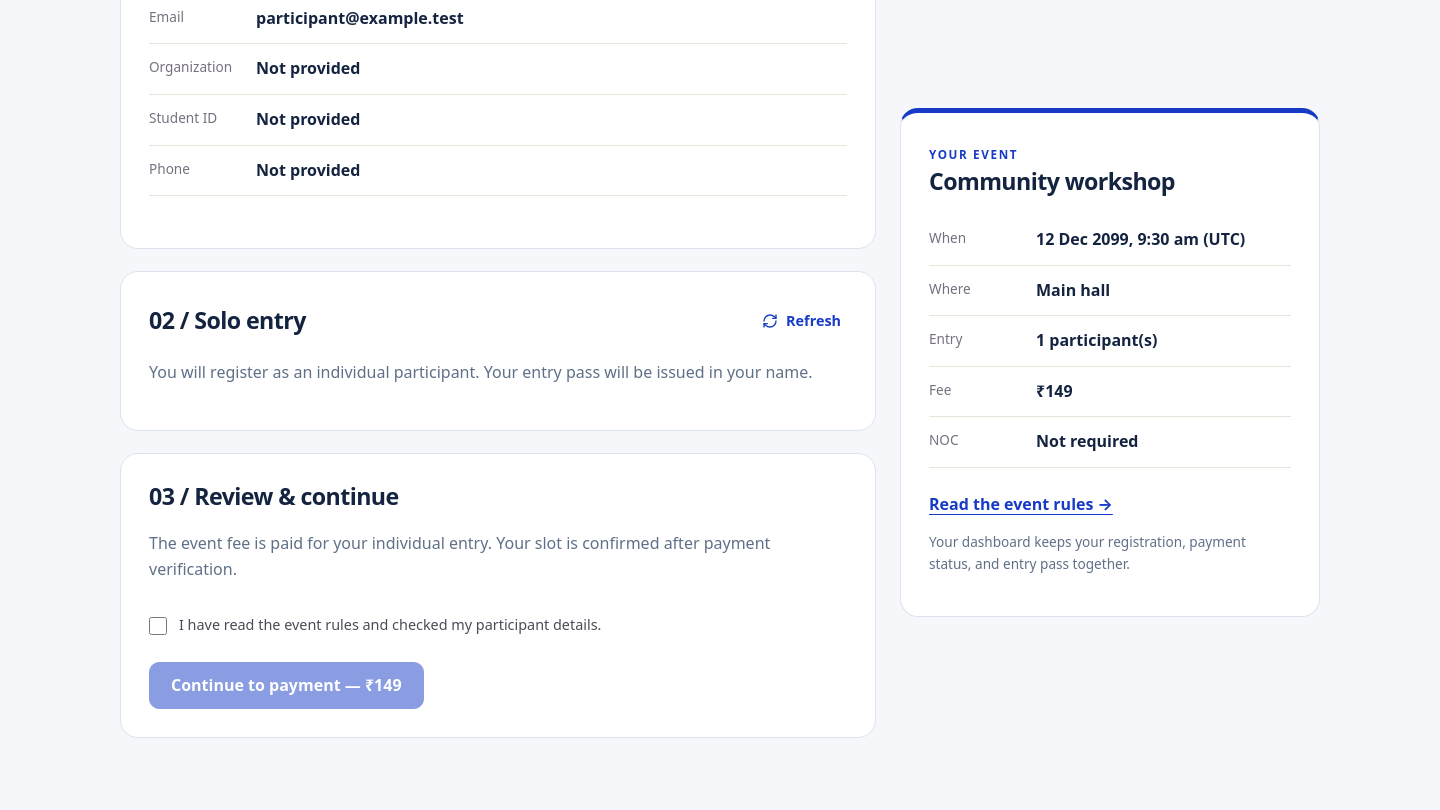
Test: paid registration explains verified payment without requiring manual proof for all methods
The width and height of the screenshot is (1440, 810).
(page scrolled)
Click the checkbox. click: (158, 626)
box: [149,617,167,635]
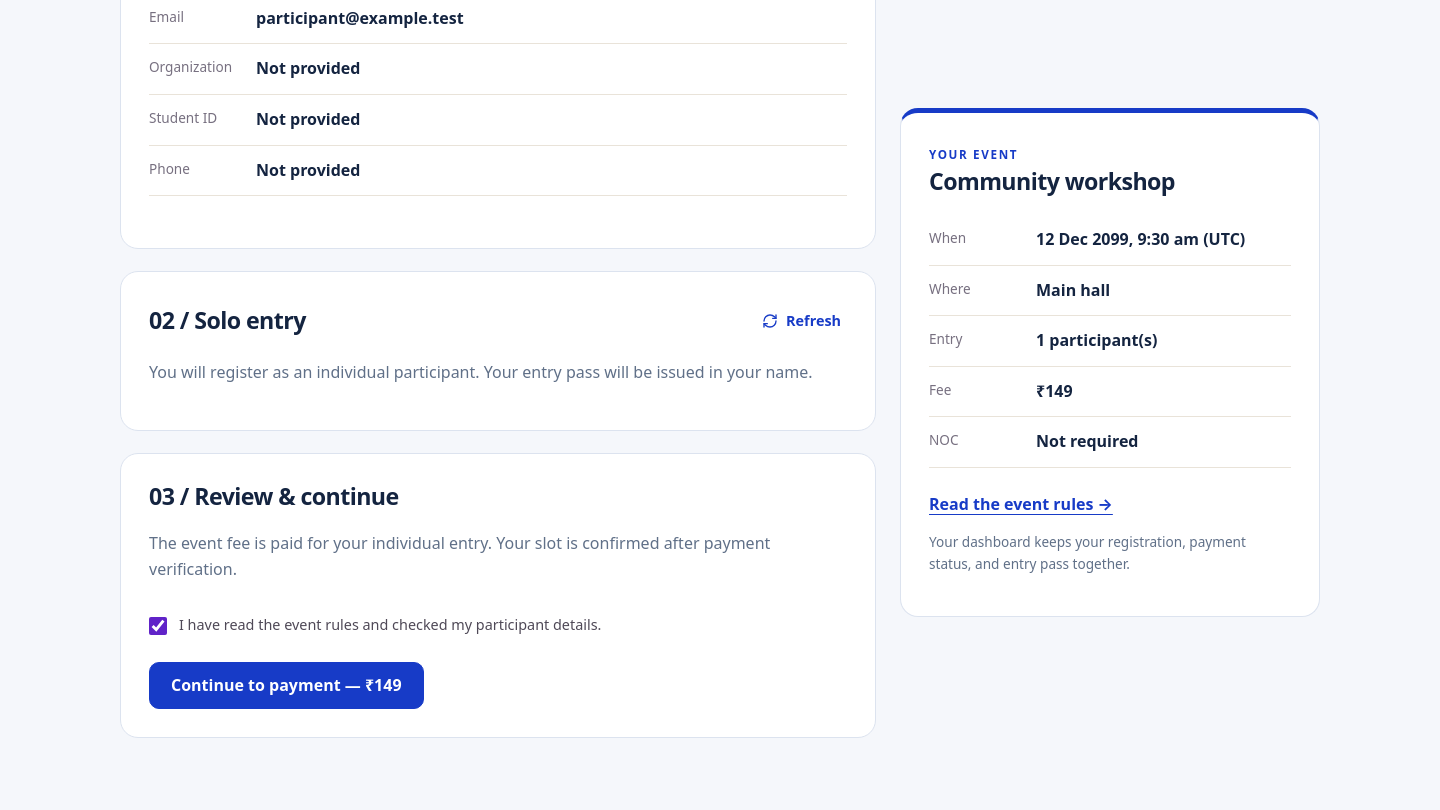
Check: the button "Continue to payment — ₹149" is shown, box [149,662,424,709]
Check: the button "Continue to payment — ₹149" is enabled, box [149,662,424,709]
